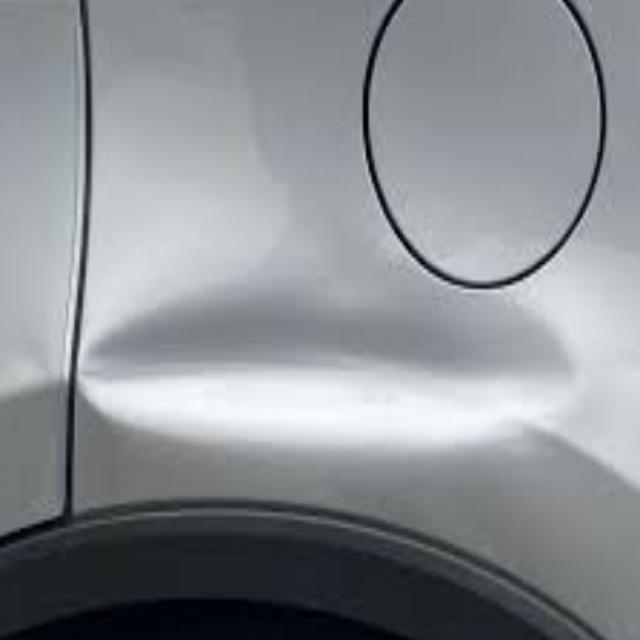dents: (58, 272, 590, 491)
